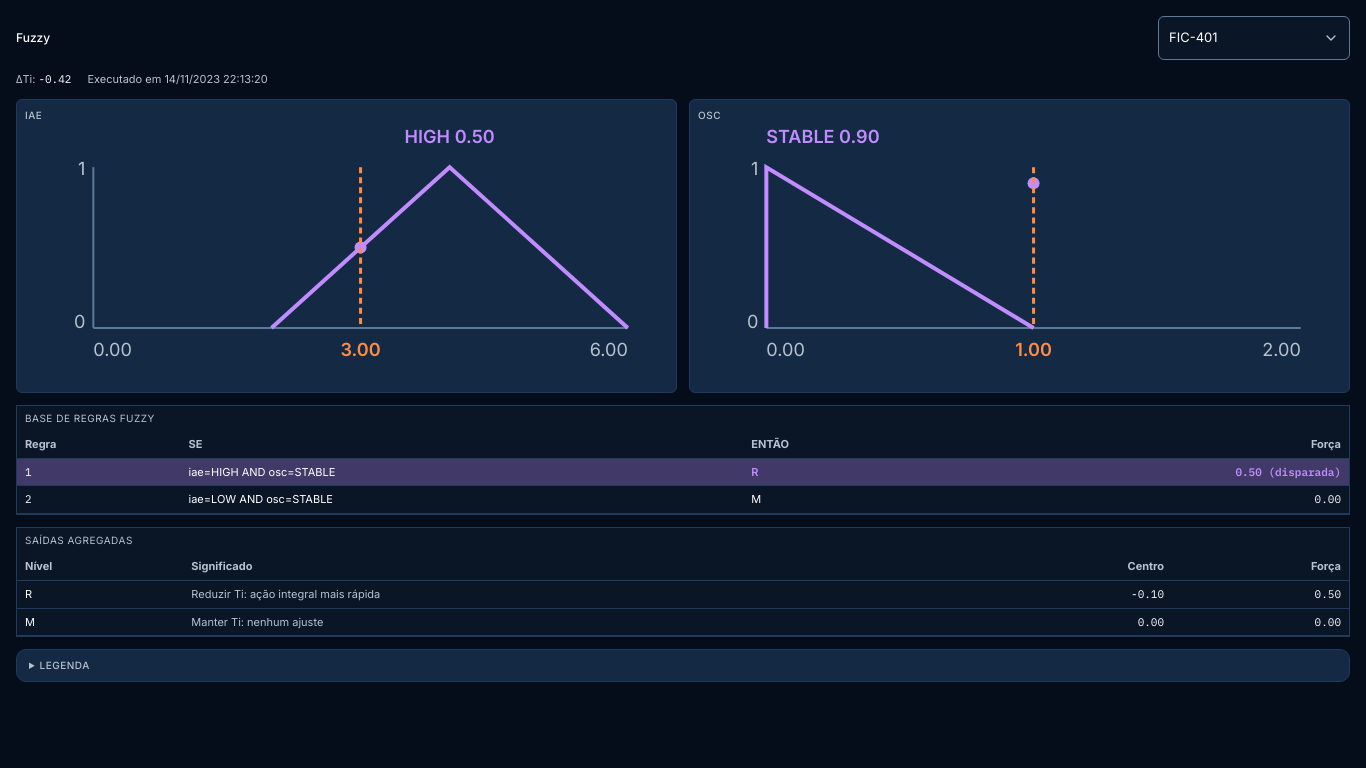
Test: FuzzyPage › renders one membership-function plot per input and the full rule table, and swaps on selection
expect the picture named "Funções de pertinência de iae" is shown: met, box [25,127,668,384]
expect the picture named "Funções de pertinência de osc" is shown: met, box [698,127,1341,384]
Press Enter in the dropdown named "Malha", box [1158,16,1350,60]
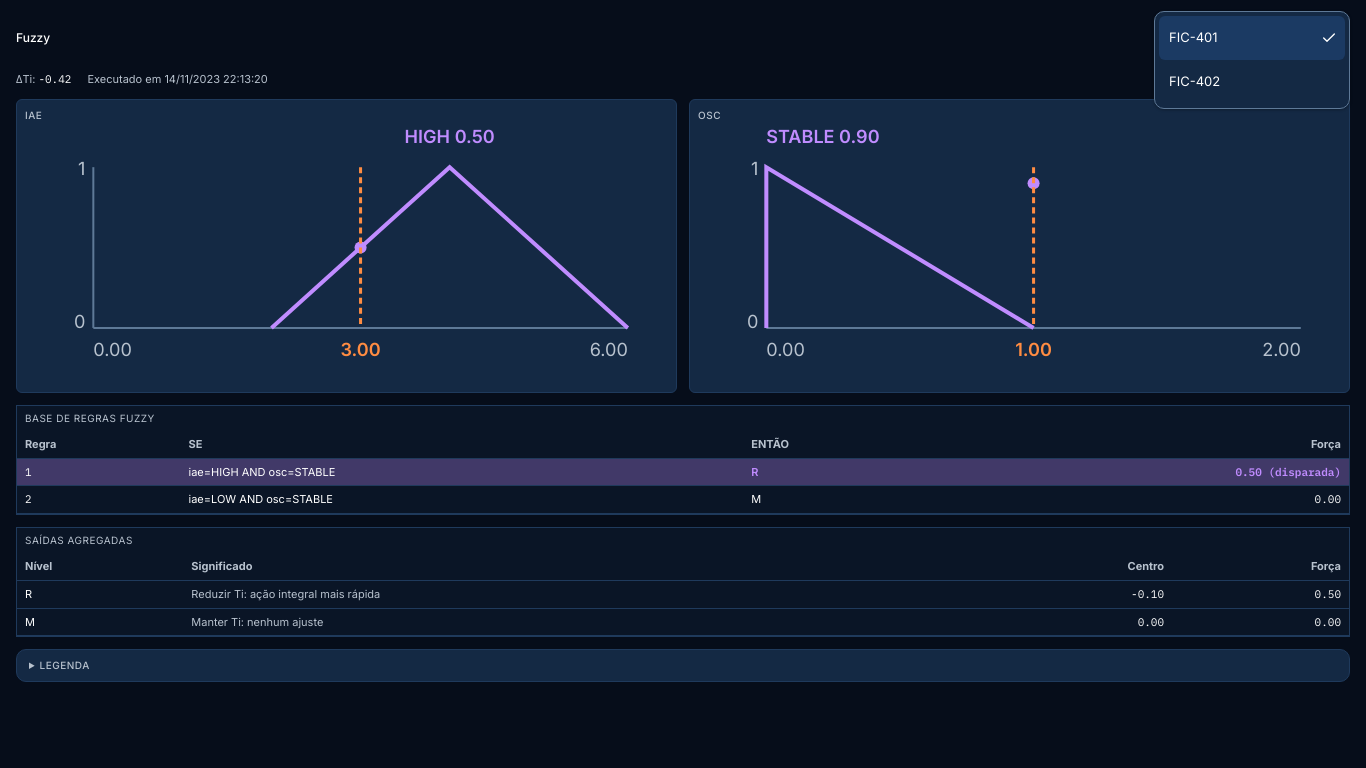
Click the option "FIC-402" at point(1195, 81), box [1169,73,1220,89]
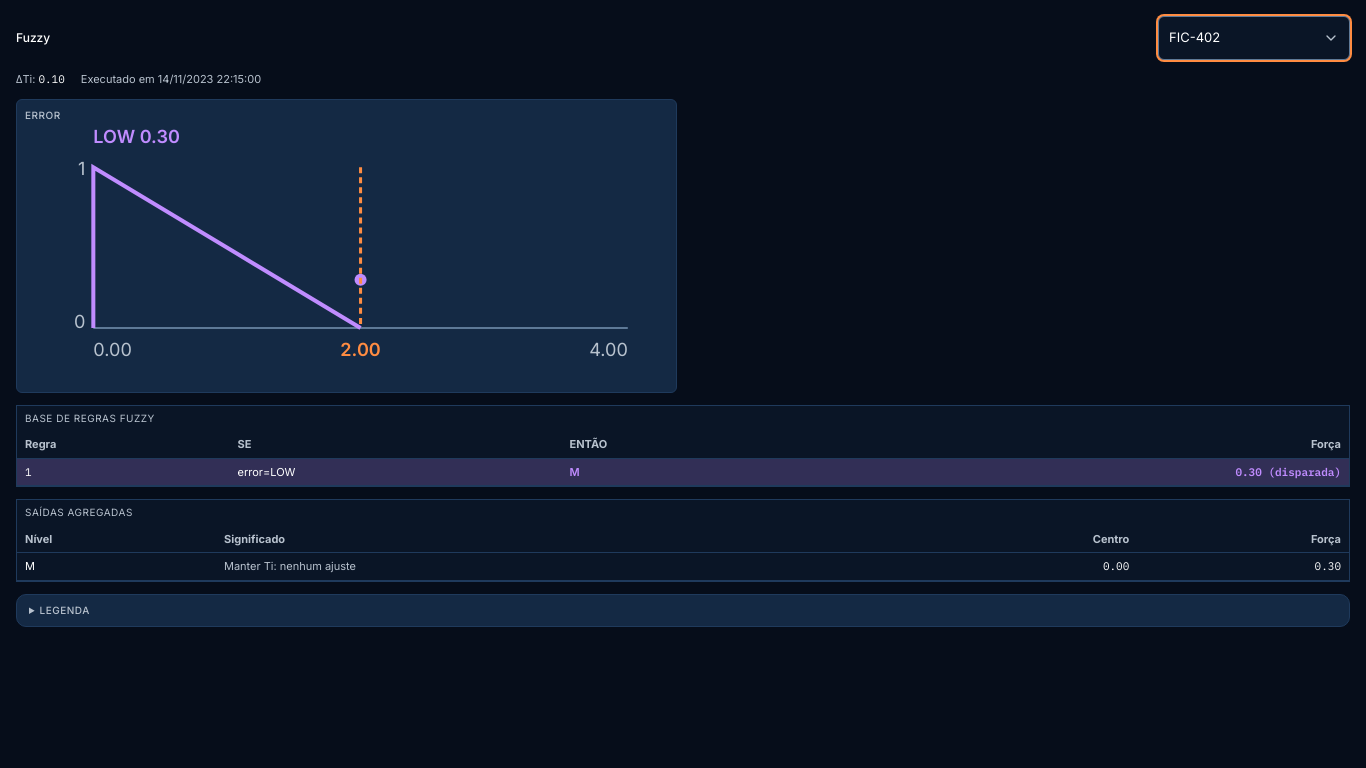
expect the picture named "Funções de pertinência de error" is shown: met, box [25,127,668,384]
